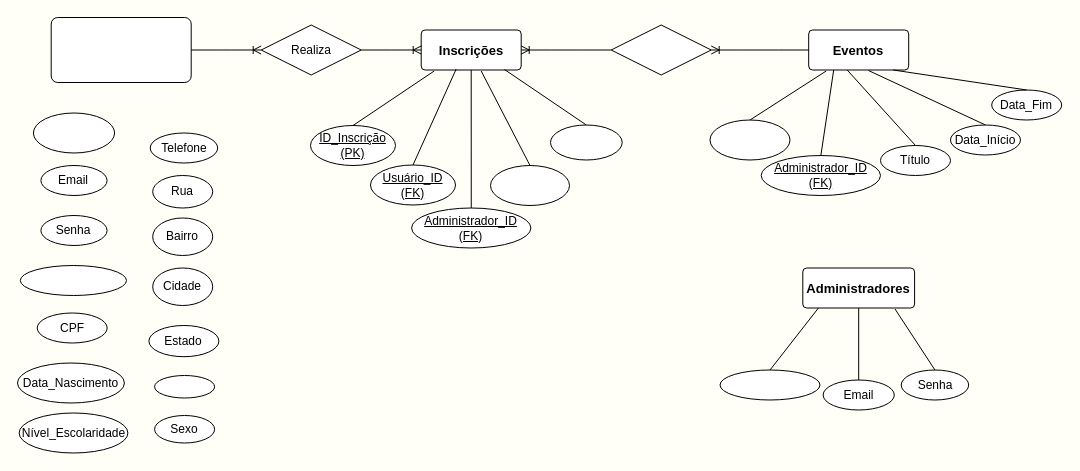
Image size: 1080x471. Some labels were removed from this diagram. Each missing label, with the centre of its shape:
"CEP" belongs at pixel 184 386.
"Evento_ID (FK)" belongs at pixel 530 185.
"ID_Admin (PK)" belongs at pixel 769 384.
"ID_Evento (PK)" belongs at pixel 749 139.
"ID_Usuário (PK)" belongs at pixel 73 132.
"Nome_Completo" belongs at pixel 72 280.
"Possui" belongs at pixel 660 49.
"Seguimista/Equipista (Usuários)" belongs at pixel 120 49.
"Status" belongs at pixel 586 142.
